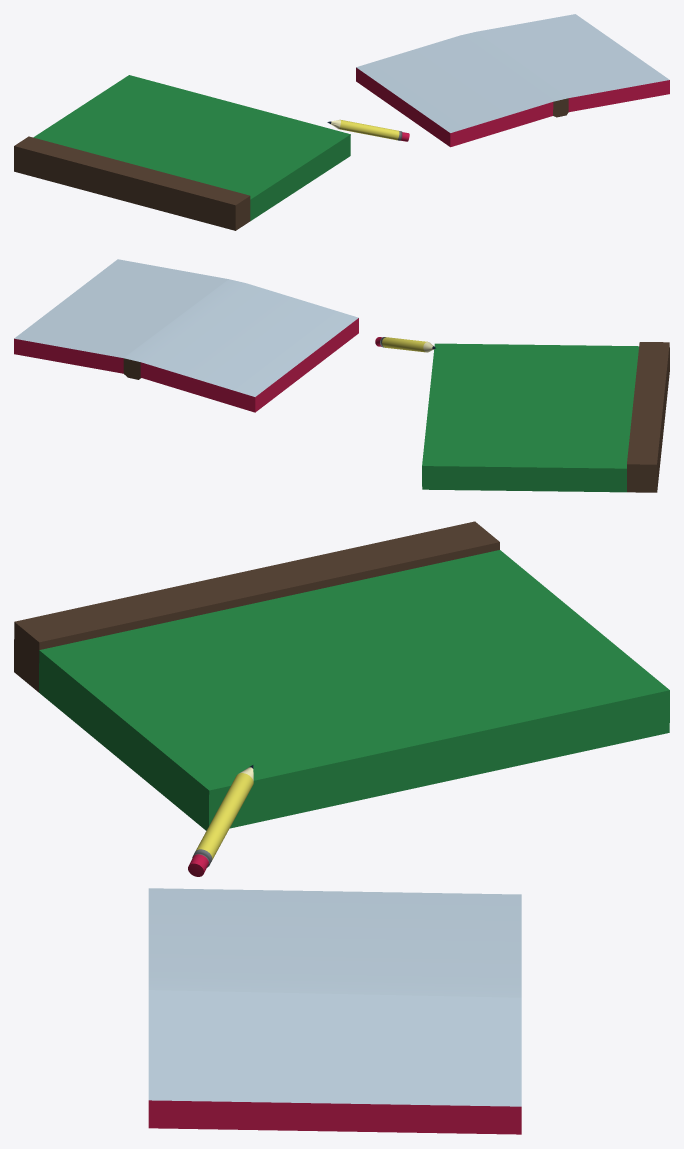
The model's file is Books.fbx.
The picture shows the model from 3 angles, top to bottom: view 1: azimuth 30°, elevation 25°; view 2: azimuth 150°, elevation 25°; view 3: azimuth 270°, elevation 25°; orthographic projection. The views are drawn at different scales.
Parts seen in each view (by area): view 1: BookClosed, BookOpen; view 2: BookClosed, BookOpen; view 3: BookClosed, BookOpen.
Boxes of the visible parts, x1=… form: BookClosed: x1=14, y1=75, x2=409, y2=230; BookOpen: x1=356, y1=14, x2=669, y2=147; BookClosed: x1=375, y1=337, x2=669, y2=492; BookOpen: x1=14, y1=259, x2=358, y2=412; BookClosed: x1=14, y1=521, x2=669, y2=876; BookOpen: x1=148, y1=888, x2=521, y2=1134.
Bounding box in the file's own units: 0.0881 × 0.00499 × 0.0442.
